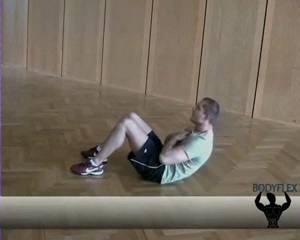sit_up: (64, 98, 215, 183)
